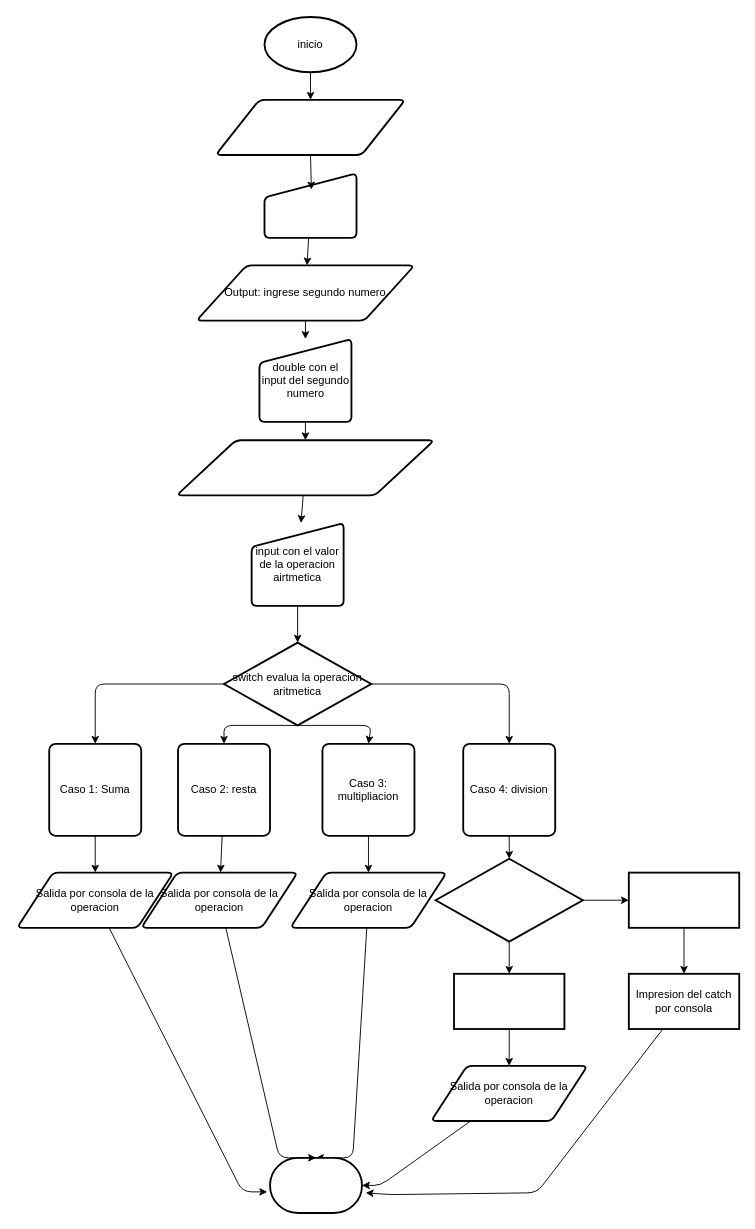
The diagram is 755 pixels wide and 1229 high, and some of its shapes have lost their labels. Each missing label, with the centre of its shape:
Division != 0: the point at 509,1000
Division realizada por 0: the point at 683,899
double con el input del numero: the point at 310,205
Fin: the point at 315,1184
output: ingrese la operacion aritmetica: the point at 305,467
Output: ingrese un numero: the point at 310,126
Try catch para evaluar si la division no es realizada por 0: the point at 508,899
